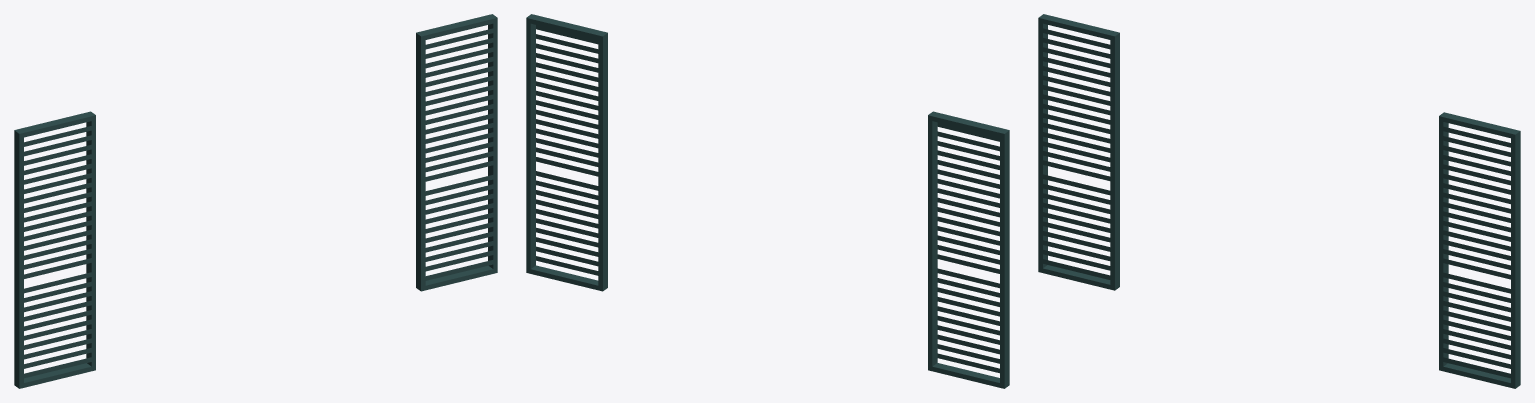
File: window_shutters_3.fbx
3 renders of one model, left to right at view 1: azimuth 30°, elevation 25°; view 2: azimuth 150°, elevation 25°; view 3: azimuth 330°, elevation 25°, orthographic.
Visible parts, largest first — view 1: Mesh1_Component_3_1 Model, Mesh2_Component_3_2 Model; view 2: Mesh2_Component_3_2 Model, Mesh1_Component_3_1 Model; view 3: Mesh1_Component_3_1 Model, Mesh2_Component_3_2 Model.
Part boxes in pixels (x1,y1,x2,y2): Mesh1_Component_3_1 Model: [14, 111, 95, 388]; Mesh2_Component_3_2 Model: [416, 14, 497, 291]; Mesh2_Component_3_2 Model: [526, 14, 607, 291]; Mesh1_Component_3_1 Model: [928, 111, 1009, 388]; Mesh1_Component_3_1 Model: [1038, 14, 1119, 290]; Mesh2_Component_3_2 Model: [1439, 112, 1520, 388].
Bounding box in the file's own units: 1.06 × 0.5412 × 0.02.
